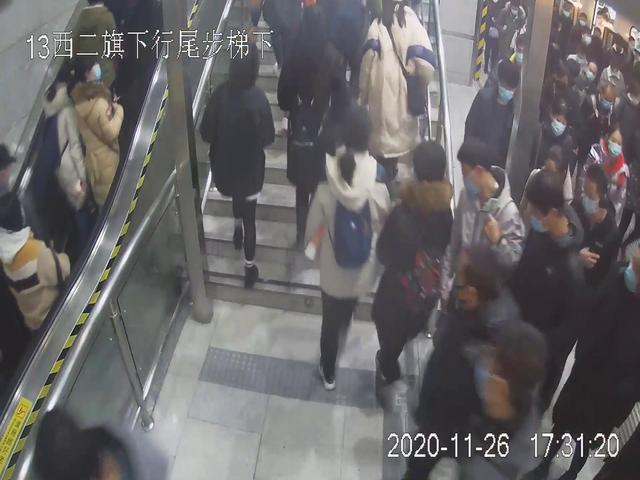person: (301, 111, 398, 391), (195, 36, 288, 299), (370, 136, 454, 404), (514, 165, 587, 409), (445, 136, 521, 332), (1, 186, 70, 333), (75, 54, 131, 215)
